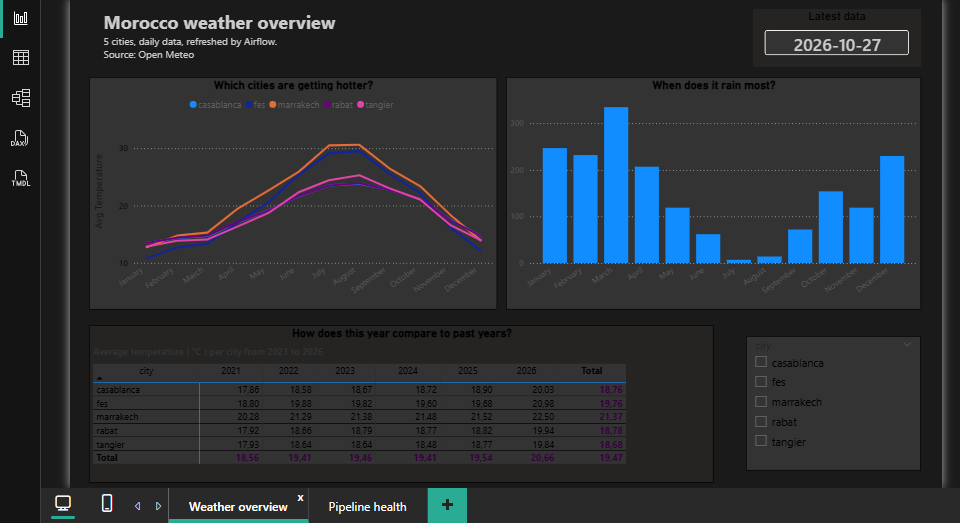

The page's visual inventory and layout, read from the dashboard file:
{"tool":"powerbi","page":{"name":"Weather overview","canvas":[1280,720],"ordinal":0},"visuals":[{"type":"lineChart","title":"Which cities are getting hotter?","fields":{"Category":["weather_daily.day.Variation.Date Hierarchy.Month"],"Y":["Avg(weather_daily.temp_avg_7d_c)"],"Series":["weather_daily.city"]},"box":[27.9,116.1,599.5,342.4],"z":0},{"type":"clusteredColumnChart","title":"When does it rain most?","fields":{"Category":["weather_daily.day.Variation.Date Hierarchy.Month"],"Y":["weather_daily.Rainy Days"]},"box":[640.7,116.1,609.8,342.4],"z":1},{"type":"pivotTable","title":"How does this year compare to past years?","fields":{"Rows":["weather_daily.city"],"Columns":["weather_daily.day.Variation.Date Hierarchy.Year"],"Values":["weather_daily.Avg Temp (°C)"]},"box":[27.9,480.5,918.4,232.2],"z":2},{"type":"slicer","fields":{"Values":["weather_daily.city"]},"box":[993.3,496.7,257.1,198.4],"z":3},{"type":"textbox","box":[44.1,11.8,395.3,89.6],"z":4},{"type":"cardVisual","title":"Latest data","fields":{"Data":["Max(weather_daily.day)"]},"box":[1003.6,16.2,246.9,85.2],"z":5}]}

Visuals, with their boxes on the page's 1280x720 design canvas (x1, y1, x2, y2). These are canvas units, not pixel positions in the 960x523 screenshot, which may show the page scaled, cropped or inside an application window:
"Which cities are getting hotter?" lineChart: bbox(28, 116, 627, 458)
"When does it rain most?" clusteredColumnChart: bbox(641, 116, 1250, 458)
"How does this year compare to past years?" pivotTable: bbox(28, 480, 946, 713)
slicer - weather_daily.city: bbox(993, 497, 1250, 695)
textbox: bbox(44, 12, 439, 101)
"Latest data" cardVisual: bbox(1004, 16, 1250, 101)
